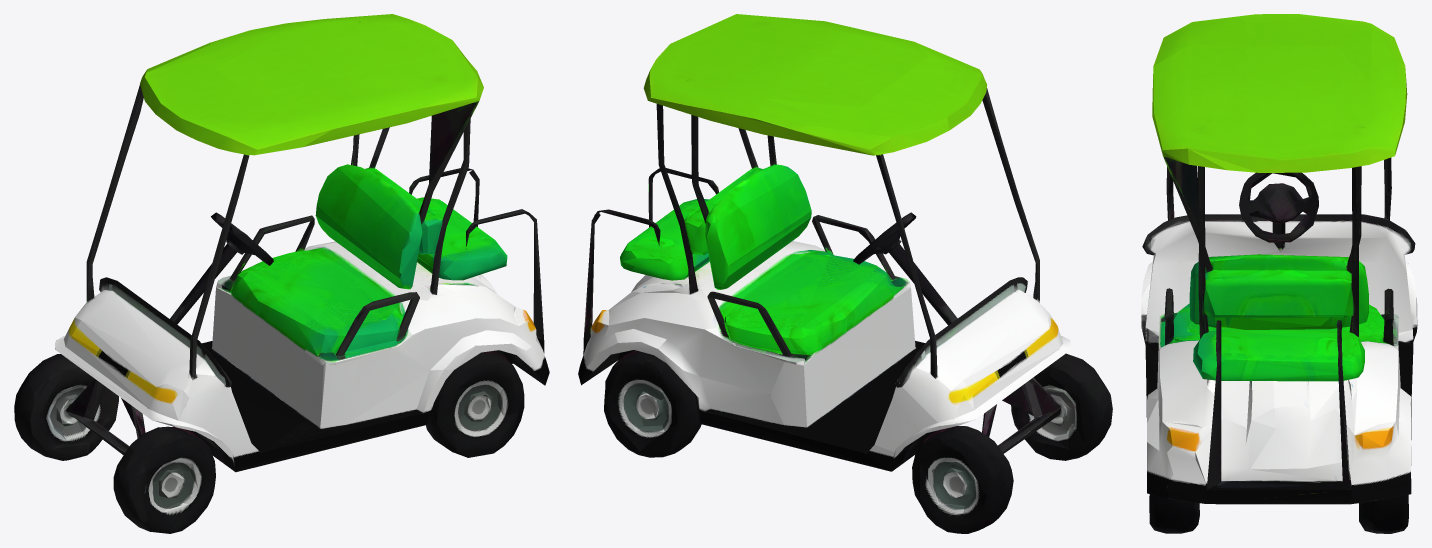
File: golfcart.glb
The picture shows the model from 3 angles, left to right: view 1: azimuth 30°, elevation 25°; view 2: azimuth 150°, elevation 25°; view 3: azimuth 270°, elevation 25°; orthographic projection. The views are drawn at different scales.
Size of the model in its own units: 1.9 by 1.54 by 0.9795.
1 material, 1 textured.
